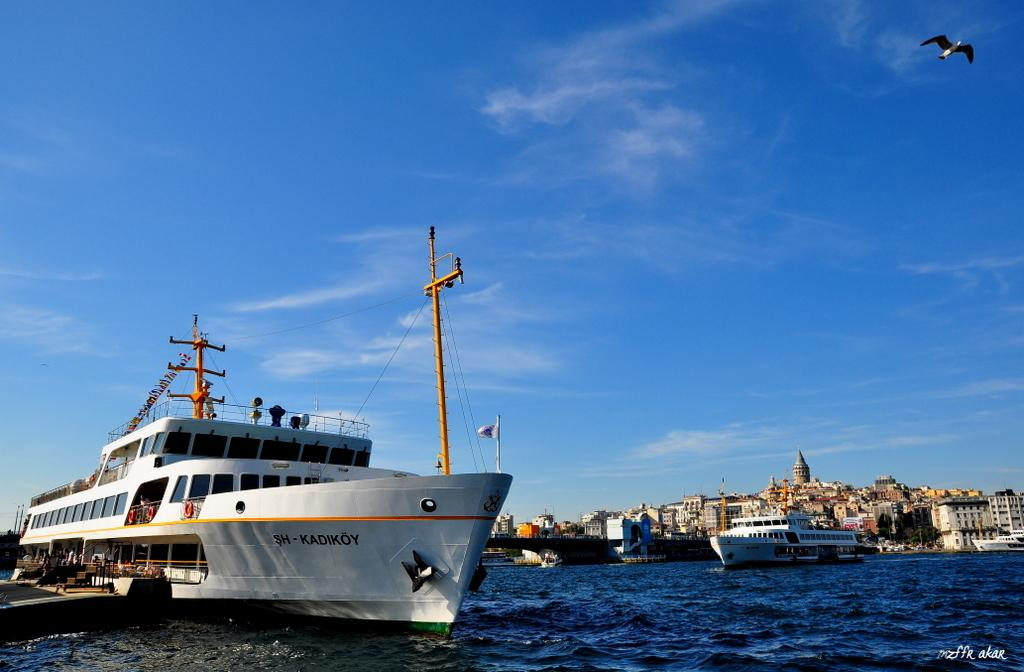PassengerShip: (7, 340, 523, 638), (702, 500, 882, 572), (964, 526, 1024, 558)
